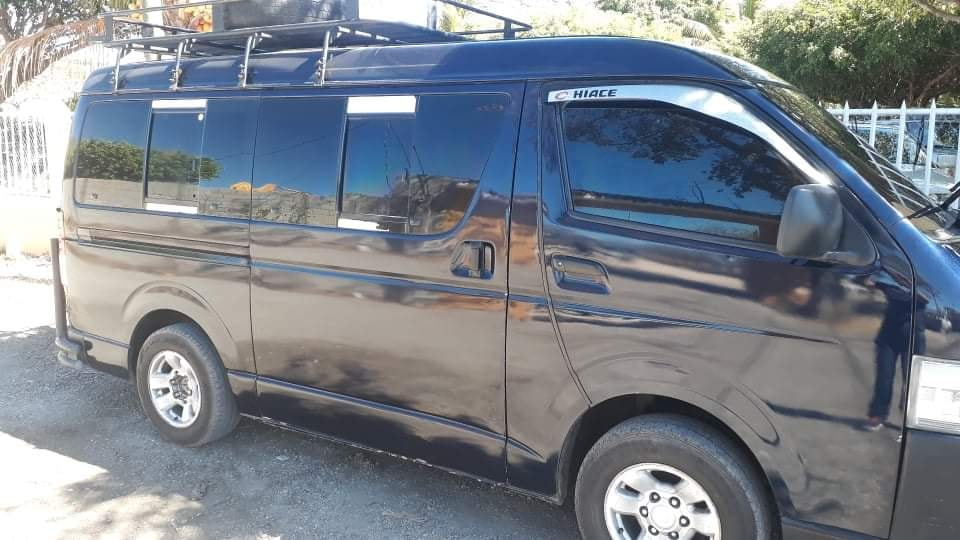bus: (47, 34, 957, 540)
